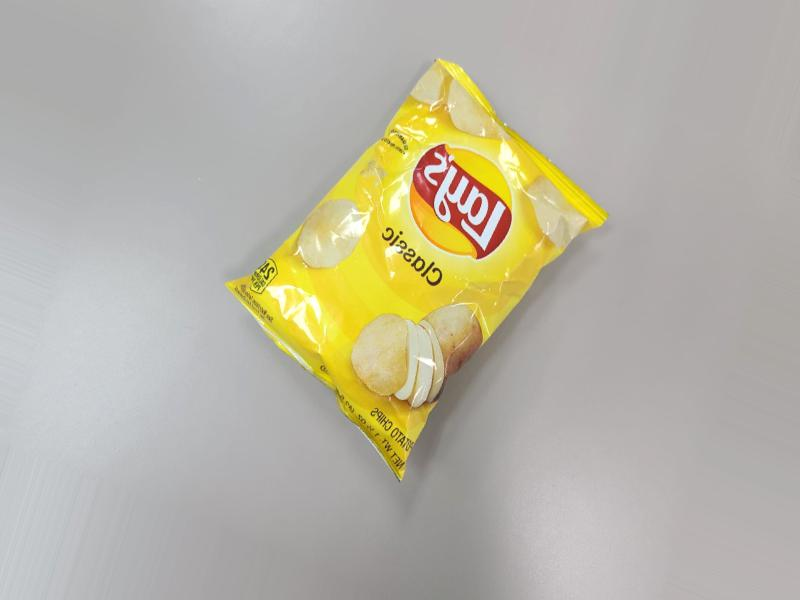lays: (291, 24, 590, 458)
